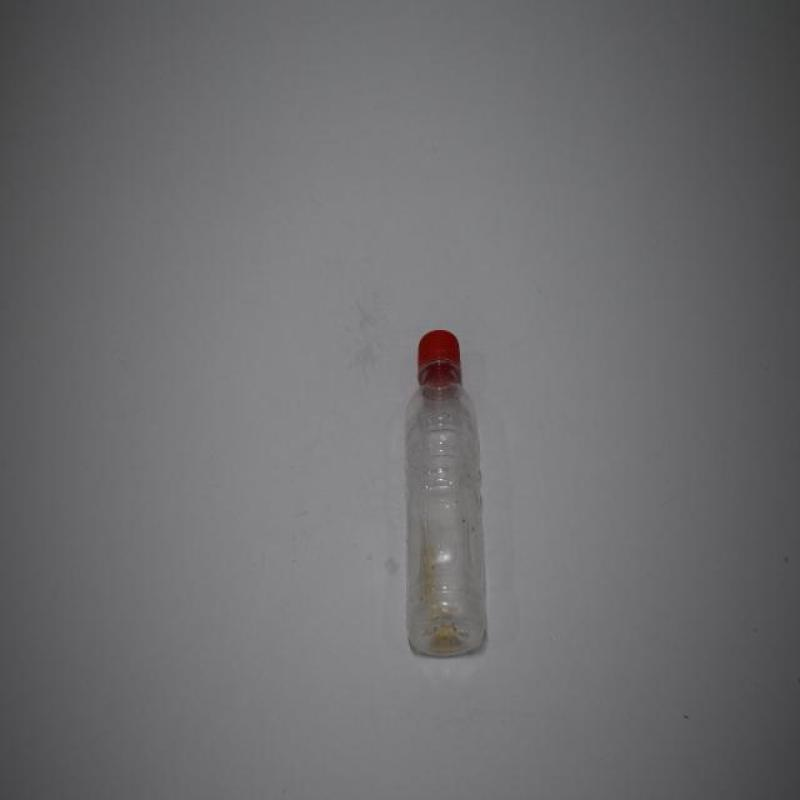botella: (407, 331, 488, 655)
